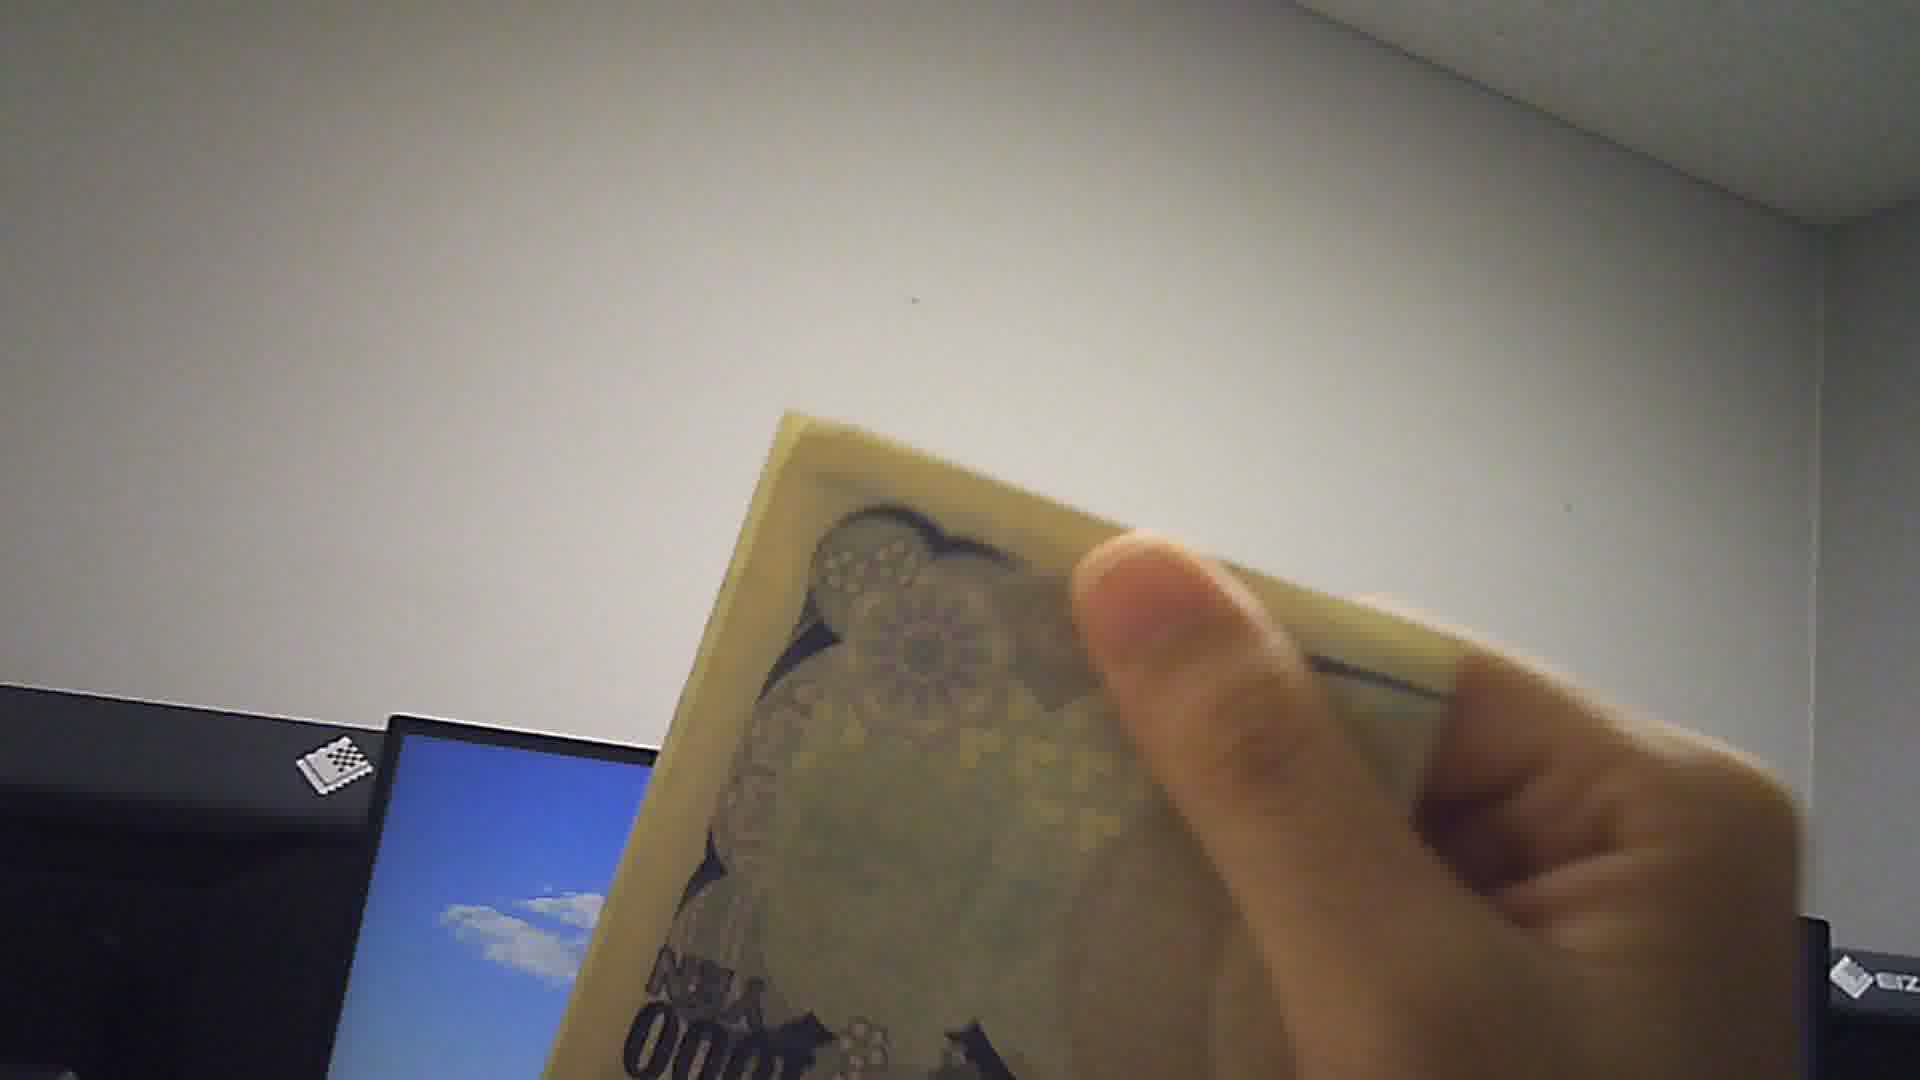1,000 Yen: (564, 419, 1296, 1079)
